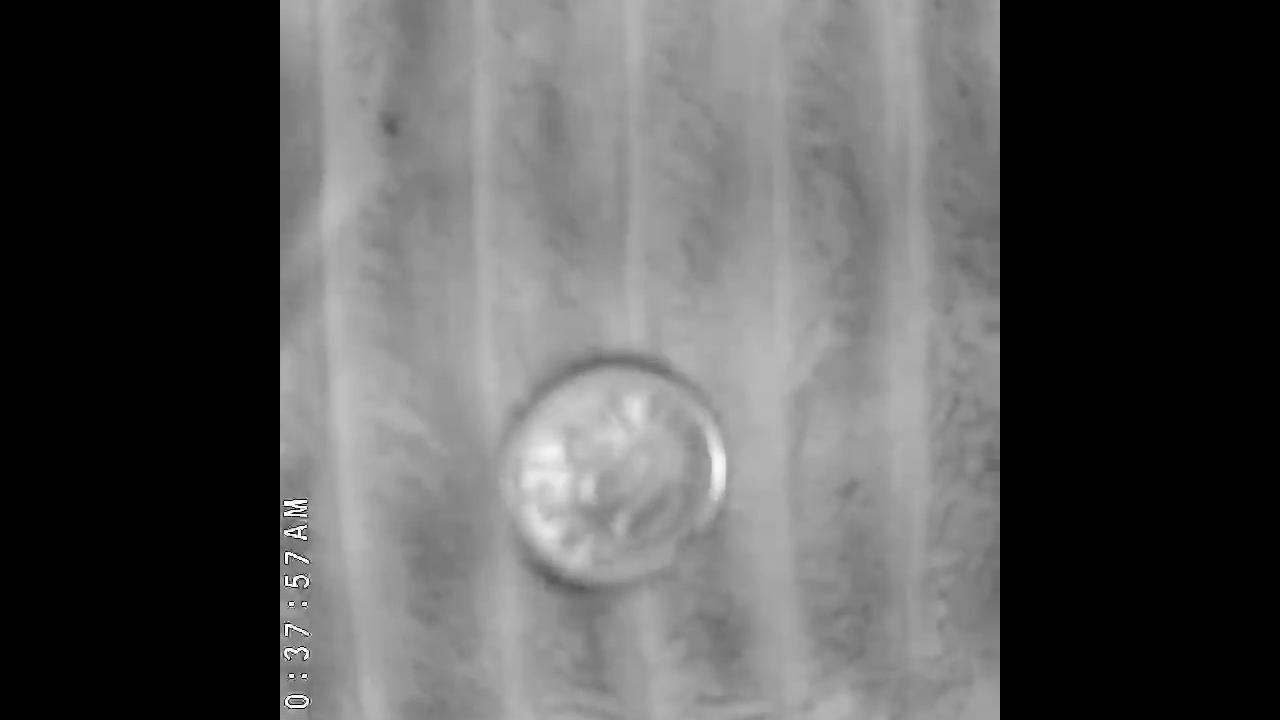coin: (494, 344, 738, 604)
